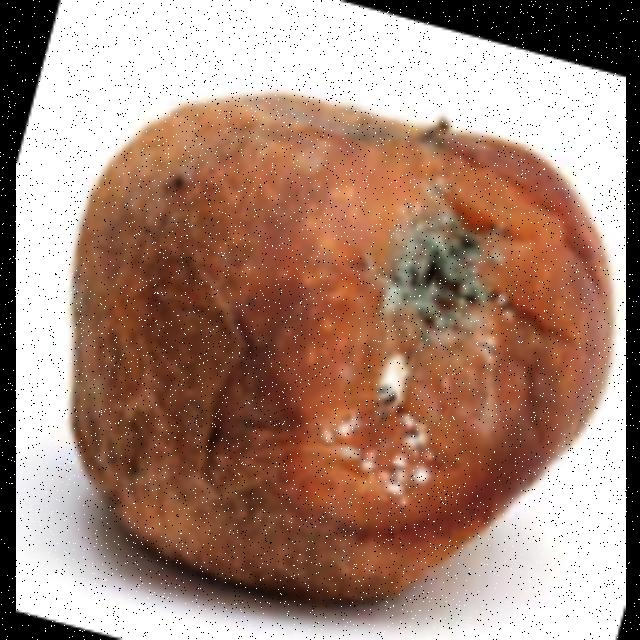Apel Tidak Segar: (58, 82, 624, 612)
